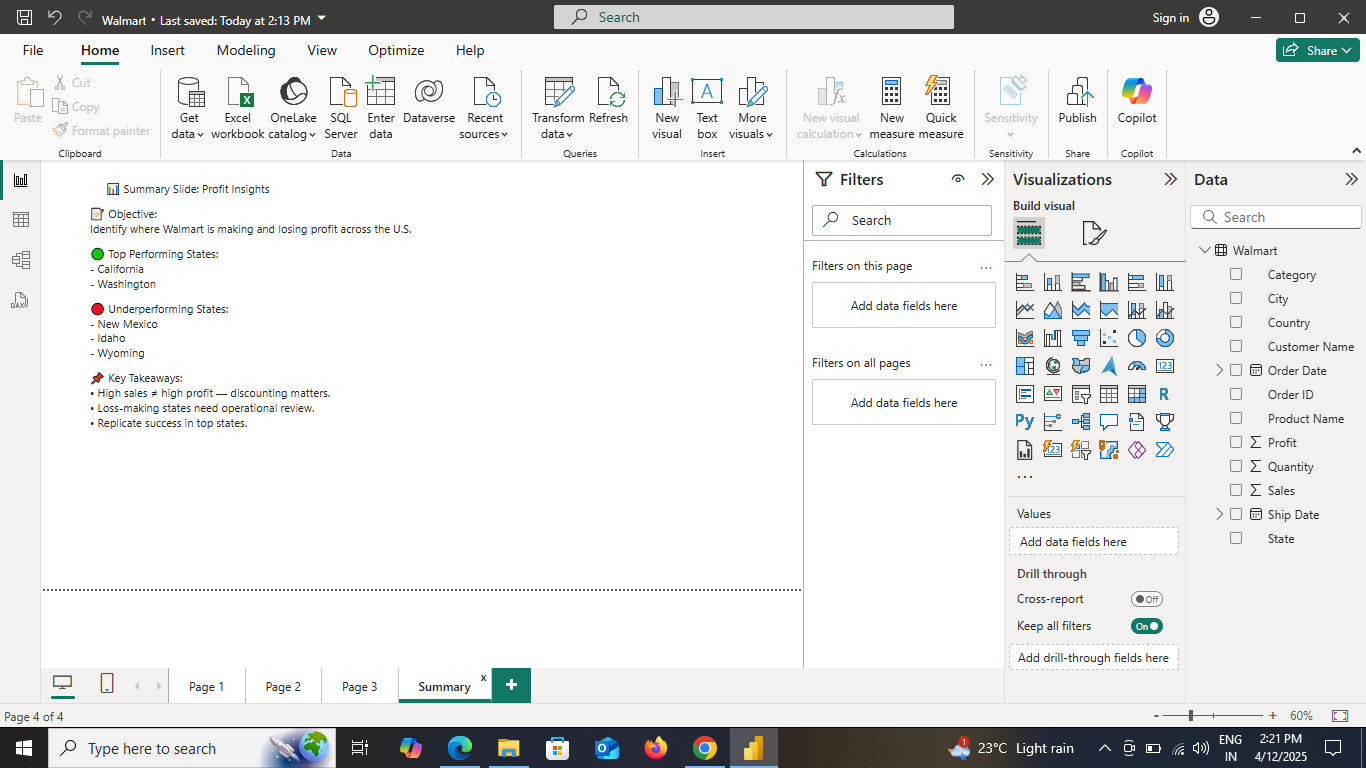

The page's visual inventory and layout, read from the dashboard file:
{"tool":"powerbi","page":{"name":"Summary","canvas":[1280,720],"ordinal":3},"visuals":[{"type":"textbox","box":[77.3,13.4,693.8,707.2],"z":2}]}

Visuals, with their boxes on the page's 1280x720 design canvas (x1, y1, x2, y2). These are canvas units, not pixel positions in the 1366x768 screenshot, which may show the page scaled, cropped or inside an application window:
textbox: [x1=77, y1=13, x2=771, y2=721]
